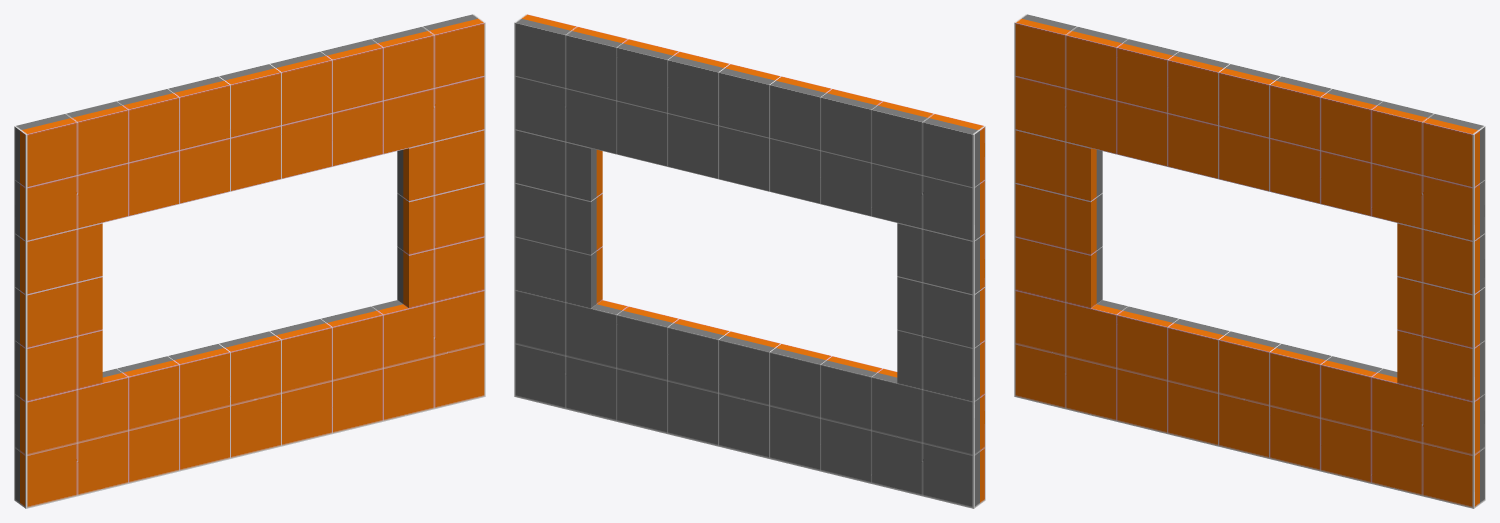
File: M01WallWindowTypeI_1.FBX
The picture shows the model from 3 angles, left to right: view 1: azimuth 30°, elevation 25°; view 2: azimuth 150°, elevation 25°; view 3: azimuth 330°, elevation 25°; orthographic projection.
Visible parts, largest first — view 1: M01WallWindowTypeI_1; view 2: M01WallWindowTypeI_1; view 3: M01WallWindowTypeI_1.
Part boxes in pixels (x1=…): M01WallWindowTypeI_1: x1=14, y1=14, x2=485, y2=508; M01WallWindowTypeI_1: x1=514, y1=14, x2=985, y2=508; M01WallWindowTypeI_1: x1=1014, y1=14, x2=1485, y2=508.
Size of what is drawn, in the model's own units: 4.5 by 3.5 by 0.2.
